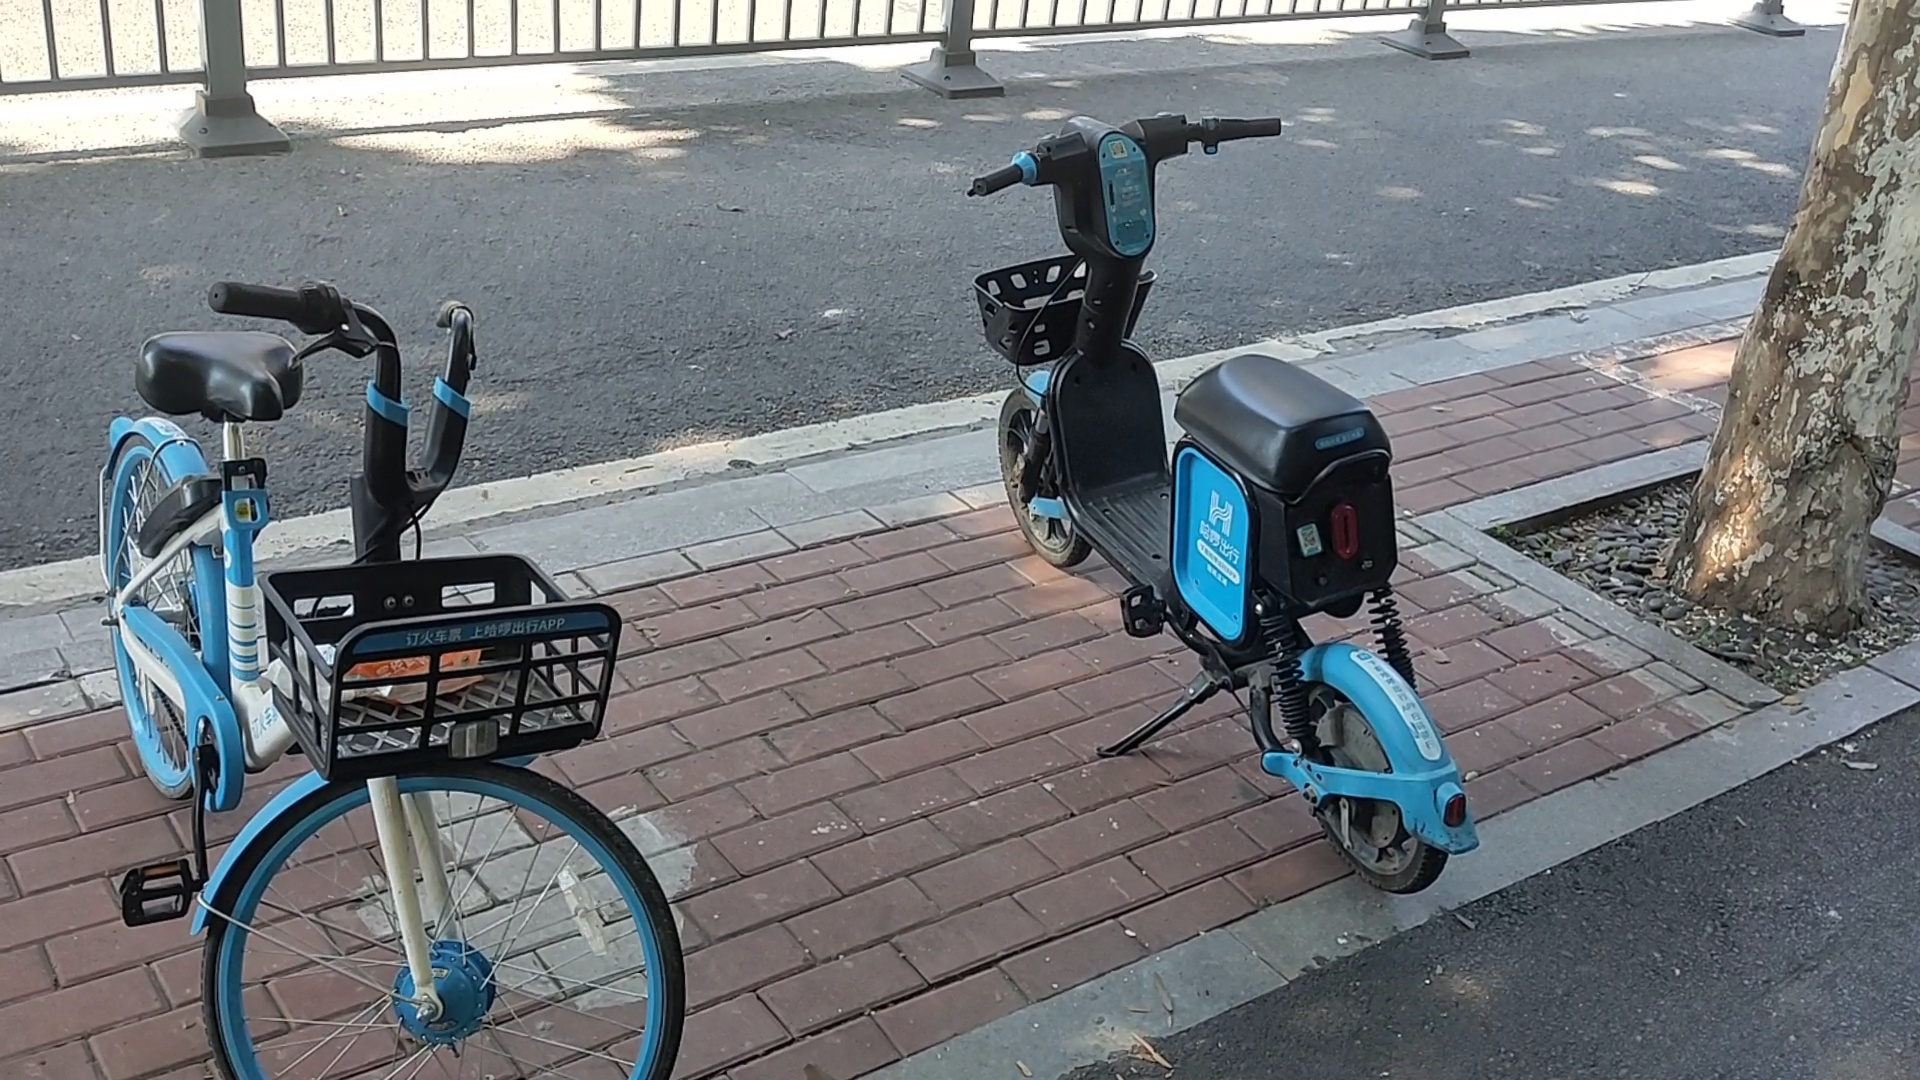non-vehicle: (70, 240, 675, 1080), (960, 102, 1494, 898)
